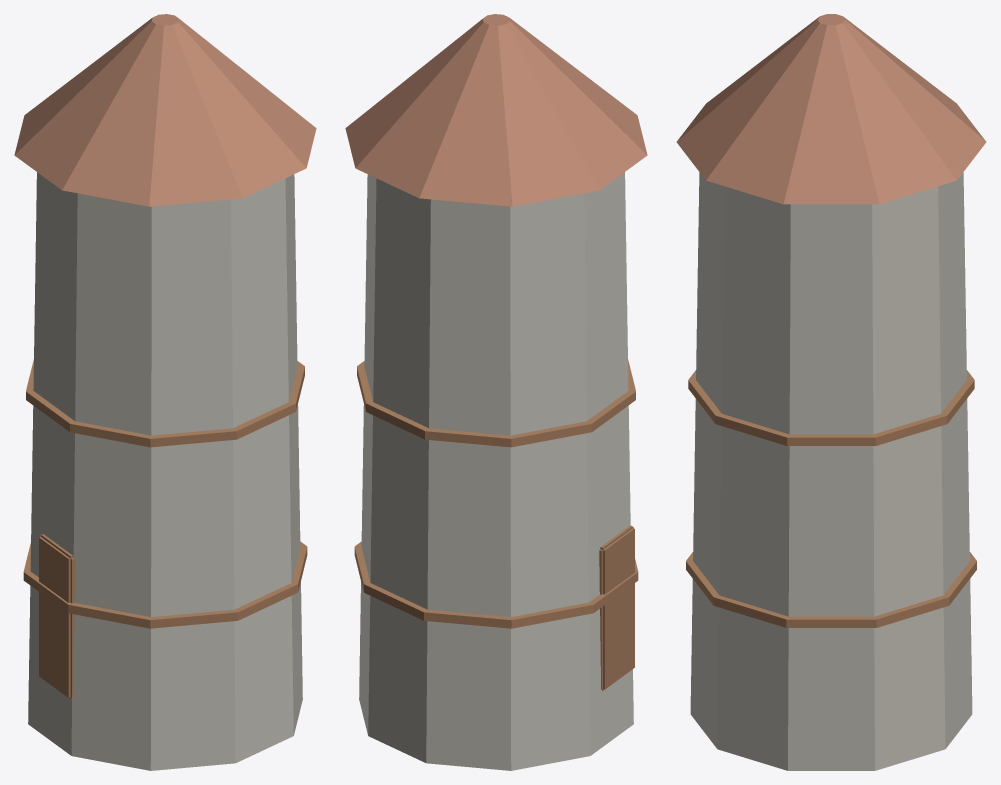
File: silo.glb
3 views of the same model, side by side, from view 1: azimuth 30°, elevation 25°; view 2: azimuth 150°, elevation 25°; view 3: azimuth 270°, elevation 25° (orthographic).
Parts seen in each view (by area): view 1: Drum, Cap, Chute, Hoop_B, Hoop_A; view 2: Drum, Cap, Chute, Hoop_B, Hoop_A; view 3: Drum, Cap, Hoop_B, Hoop_A.
Boxes of the visible parts, box(x1,y1,x2,y2) form: Drum: box(28, 172, 302, 770); Cap: box(14, 14, 316, 206); Chute: box(39, 534, 75, 699); Hoop_B: box(26, 359, 304, 447); Hoop_A: box(23, 541, 307, 628); Drum: box(359, 172, 633, 770); Cap: box(345, 14, 647, 206); Chute: box(599, 525, 634, 690); Hoop_B: box(357, 359, 635, 447); Hoop_A: box(354, 541, 638, 628); Drum: box(690, 172, 972, 770); Cap: box(676, 14, 986, 204); Hoop_B: box(688, 370, 974, 445); Hoop_A: box(686, 552, 976, 627).
Size of the model in its own units: 2.51 by 6.52 by 2.64.
